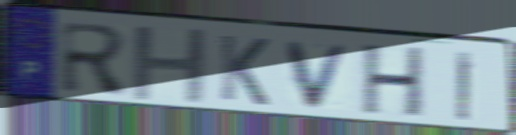H: (130, 25, 211, 105), (359, 42, 428, 121)
I: (454, 48, 476, 124)
K: (217, 31, 272, 109)
R: (57, 19, 133, 97)
V: (283, 40, 355, 112)
